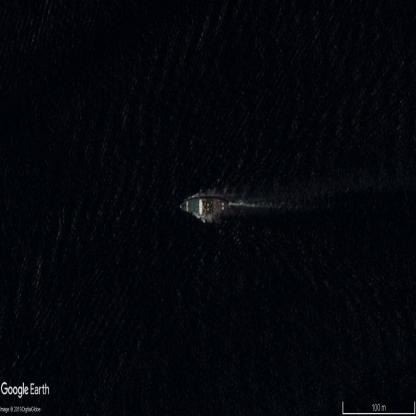ship: (180, 196, 228, 219)
